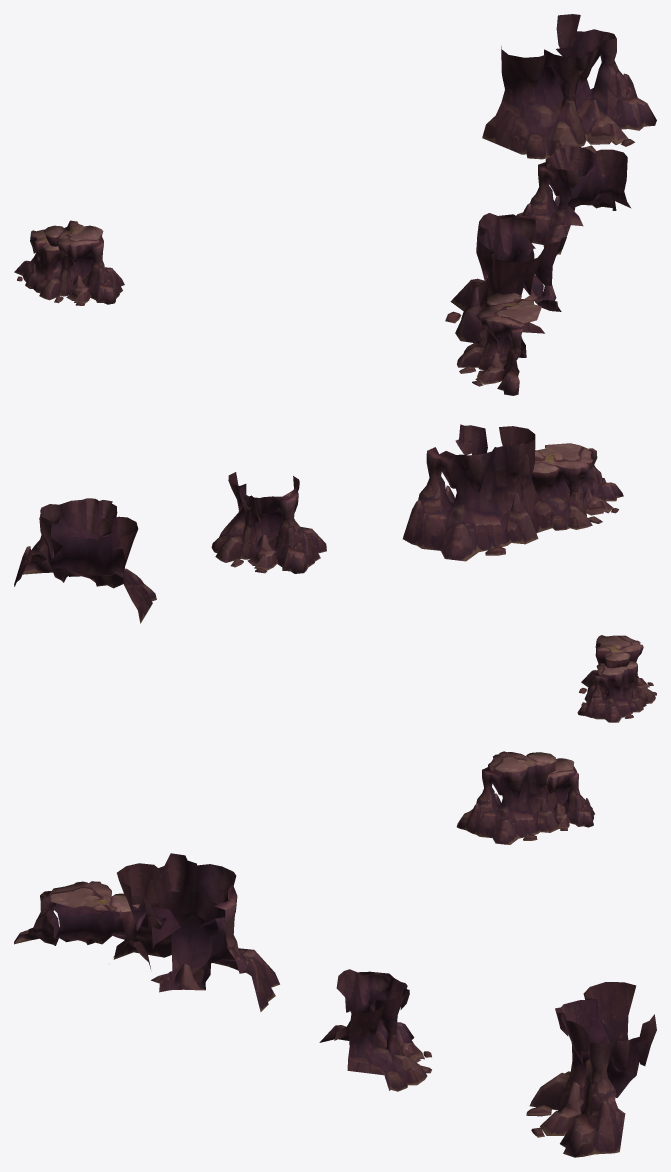
The model's file is area13_shiqiang_01.FBX.
3 renders of one model, top to bottom at view 1: azimuth 30°, elevation 25°; view 2: azimuth 150°, elevation 25°; view 3: azimuth 270°, elevation 25°, orthographic. The views are drawn at different scales.
Visible parts, largest first — view 1: area13_shiqiang_01; view 2: area13_shiqiang_01; view 3: area13_shiqiang_01.
Boxes of the visible parts, bbox=[...] form: area13_shiqiang_01: bbox=[14, 14, 656, 395]; area13_shiqiang_01: bbox=[14, 424, 656, 722]; area13_shiqiang_01: bbox=[14, 751, 656, 1157].
Bounding box in the file's own units: 7569 × 1106 × 5743.
